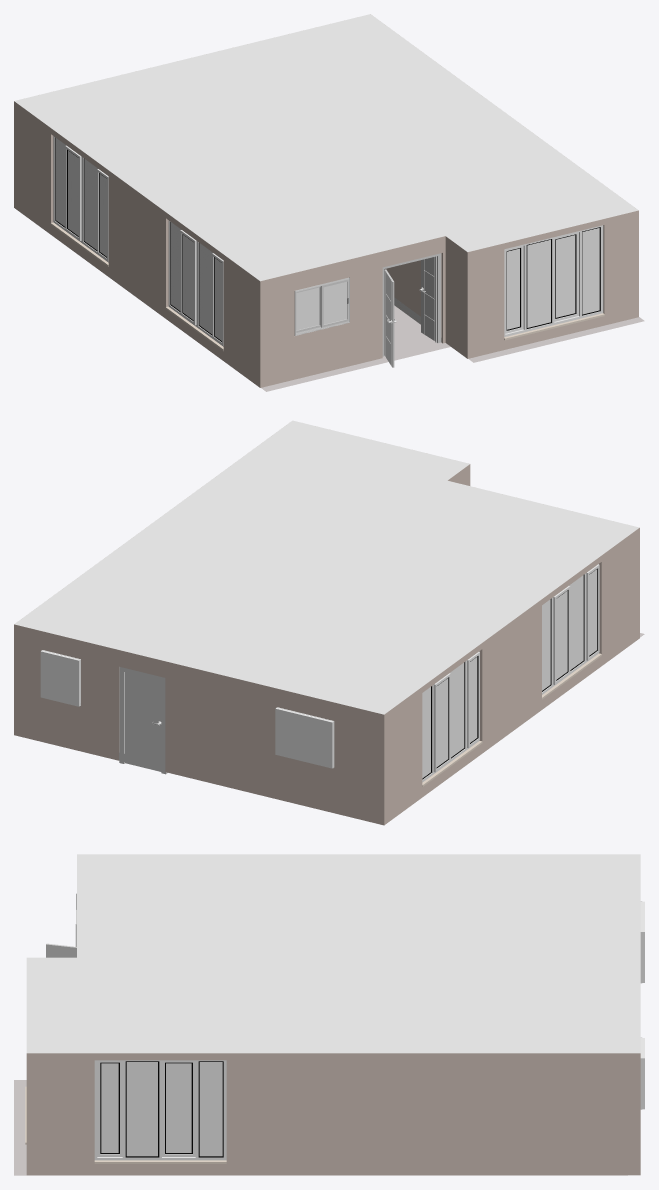
The model's file is afrina1.glb.
3 views of the same model, one above another, from view 1: azimuth 30°, elevation 25°; view 2: azimuth 150°, elevation 25°; view 3: azimuth 270°, elevation 25° (orthographic). The views are drawn at different scales.
Parts seen in each view (by area): view 1: Ceiling, Outer_walls, Window011_2, Window008_2, Window009_2, Floor, Window011, Window008, Window009, Bed, Door004, Window011_1 (+4 smaller); view 2: Ceiling, Outer_walls, Window009_2, Window008_2, Door002, CTRL_Hole005, CTRL_Hole006, Window008, Window009, DoorFrame002, Window008_1; view 3: Ceiling, Outer_walls, Window010_2, Window010, Floor, Window010_1, Window010_3.
Part boxes in pixels (box(x1,y1,x2,y2)): Ceiling: box(14, 14, 638, 281); Outer_walls: box(14, 101, 638, 387); Window011_2: box(507, 228, 599, 329); Window008_2: box(171, 222, 221, 340); Window009_2: box(56, 138, 106, 256); Floor: box(261, 305, 644, 391); Window011: box(504, 225, 603, 336); Window008: box(168, 220, 223, 346); Window009: box(53, 136, 108, 262); Bed: box(384, 260, 420, 323); Door004: box(421, 256, 437, 342); Window011_1: box(506, 227, 600, 330); Ceiling: box(14, 420, 639, 714); Outer_walls: box(14, 464, 639, 825); Window009_2: box(422, 657, 477, 778); Window008_2: box(542, 569, 596, 690); Door002: box(125, 672, 161, 771); CTRL_Hole005: box(275, 707, 334, 768); CTRL_Hole006: box(40, 650, 80, 706); Window008: box(542, 564, 599, 694); Window009: box(422, 651, 479, 782); DoorFrame002: box(119, 667, 167, 774); Window008_1: box(542, 568, 597, 691); Ceiling: box(26, 854, 640, 1053); Outer_walls: box(26, 1053, 640, 1175); Window010_2: box(101, 1062, 222, 1156); Window010: box(94, 1060, 226, 1160); Floor: box(14, 1080, 627, 1175); Window010_1: box(100, 1061, 223, 1157); Window010_3: box(94, 1160, 226, 1163).
Bounding box in the file's own units: 8.41 × 2.46 × 11.24.
